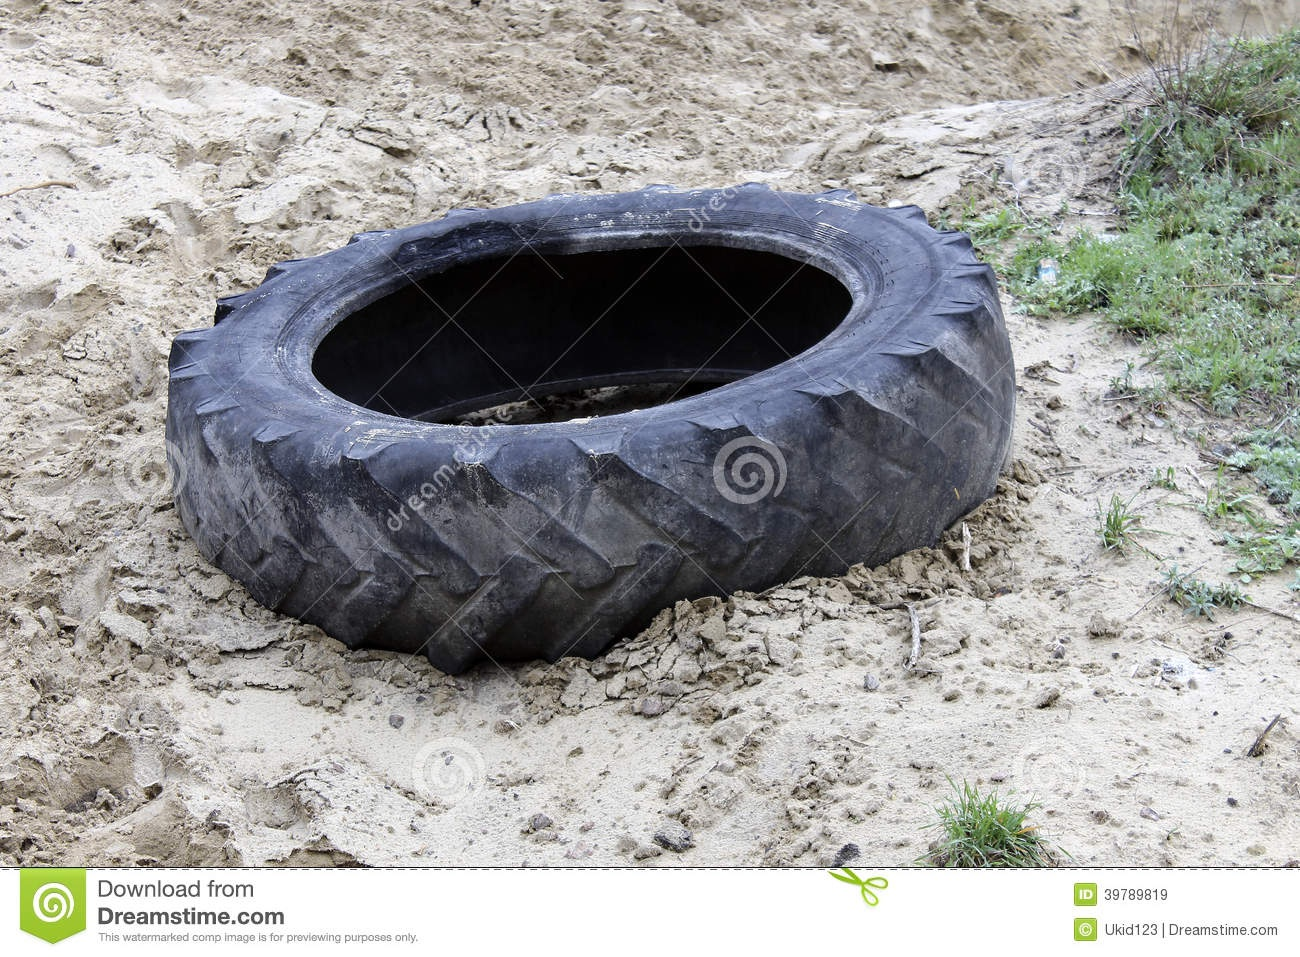tire: (141, 183, 1008, 673)
